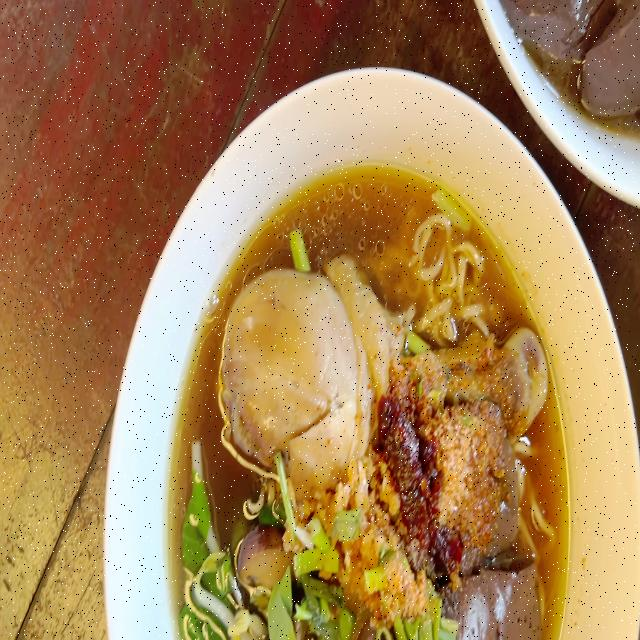boiled_chicken_blood_jelly: (415, 559, 545, 640)
chicken_drumstick: (218, 276, 548, 460)
noodle: (145, 138, 575, 640)
